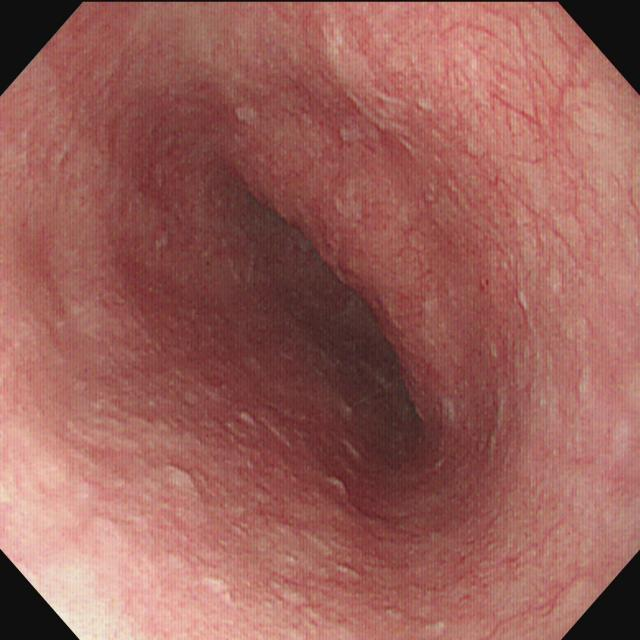E: (213, 168, 433, 455)
J: (91, 378, 369, 577)
